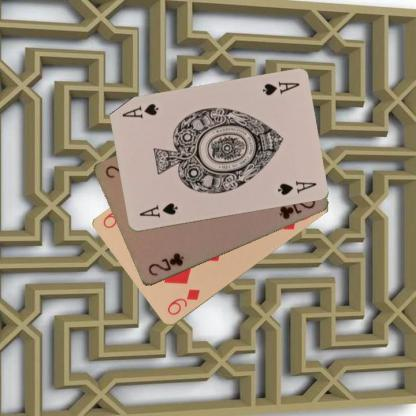2c: (146, 250, 186, 278)
9d: (164, 287, 202, 317)
As: (136, 200, 178, 219), (259, 79, 301, 97)
